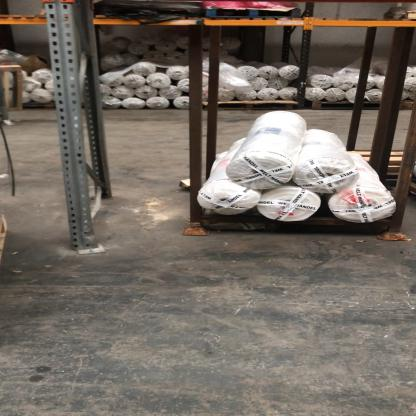vertical_damage: (65, 215, 106, 260)
